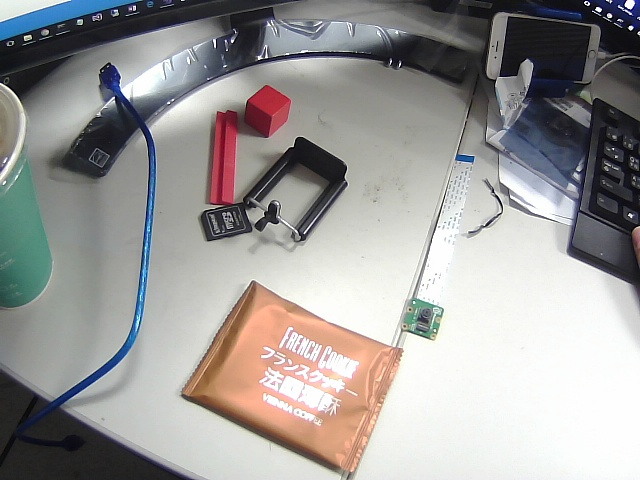frenchcookie: (170, 276, 414, 478)
